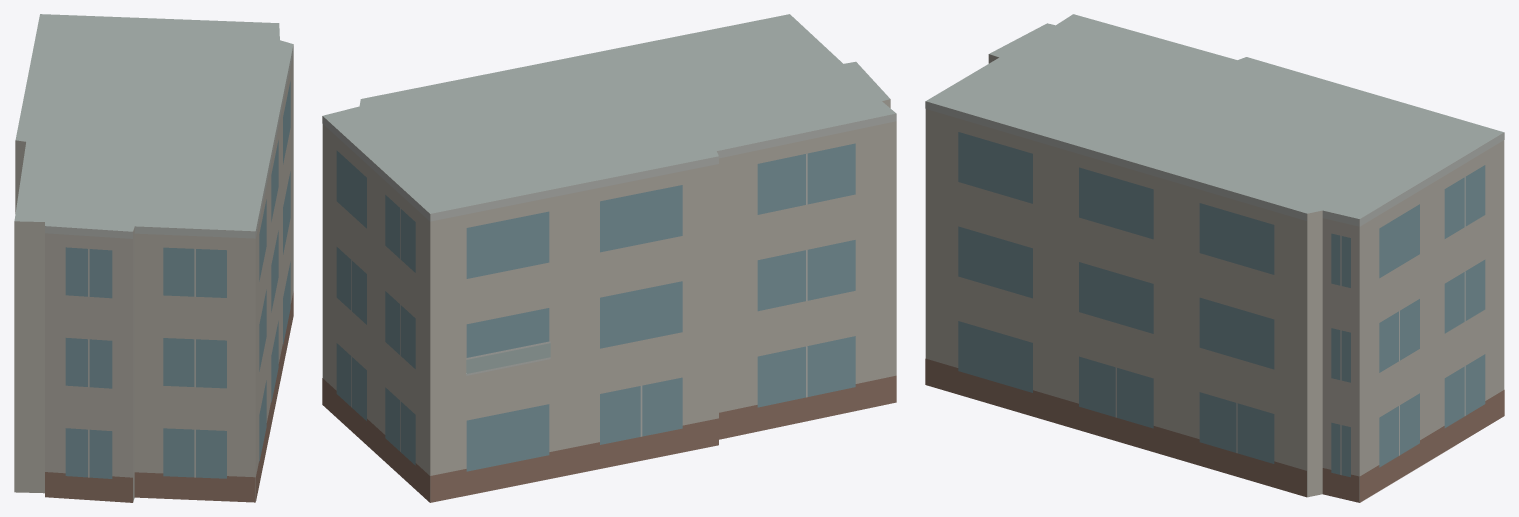
Rendered from survey-upis-32527405.glb.
3 views of the same model, side by side, from view 1: azimuth 30°, elevation 25°; view 2: azimuth 150°, elevation 25°; view 3: azimuth 270°, elevation 25° (orthographic). The views are drawn at different scales.
Parts seen in each view (by area): view 1: survey-upis-32527405.tmp; view 2: survey-upis-32527405.tmp; view 3: survey-upis-32527405.tmp.
Boxes of the visible parts, bbox=[...] form: survey-upis-32527405.tmp: bbox=[14, 14, 293, 502]; survey-upis-32527405.tmp: bbox=[322, 14, 896, 502]; survey-upis-32527405.tmp: bbox=[925, 14, 1504, 502].
Size of the model in its own units: 14.2 by 9.15 by 16.93.
